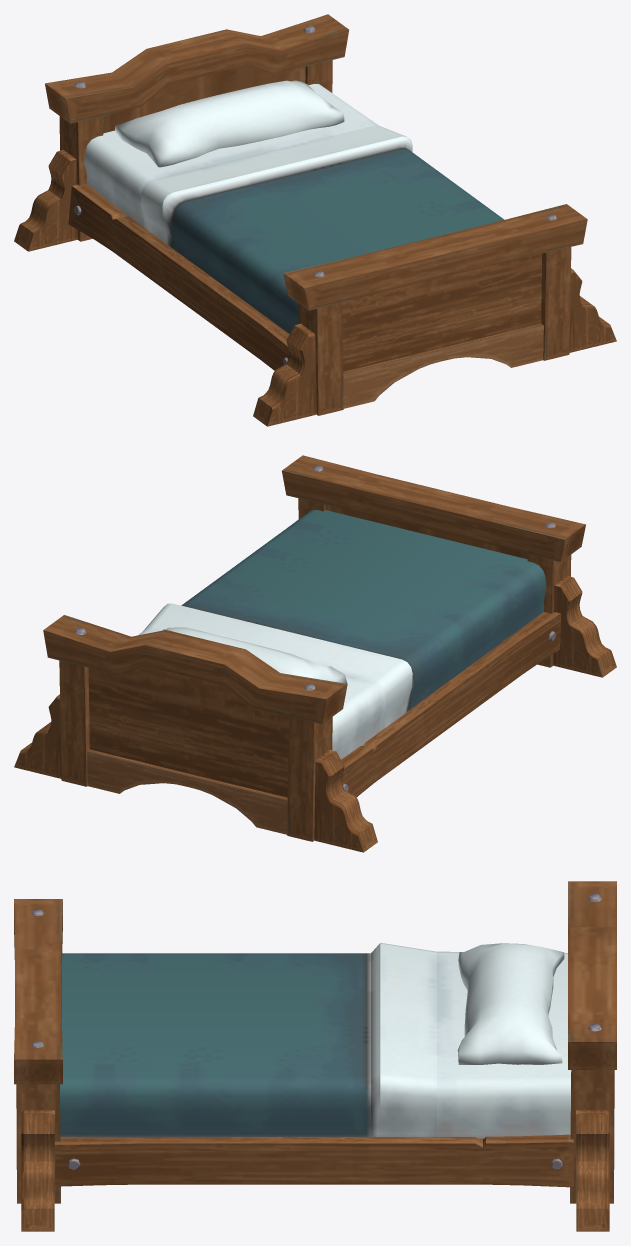
The model's file is Bed_Twin1.glb.
3 renders of one model, top to bottom at view 1: azimuth 30°, elevation 25°; view 2: azimuth 150°, elevation 25°; view 3: azimuth 270°, elevation 25°, orthographic. The views are drawn at different scales.
Visible parts, largest first — view 1: Bed_Twin1; view 2: Bed_Twin1; view 3: Bed_Twin1.
Boxes of the visible parts, x1,y1,x2,y2 form: Bed_Twin1: (14, 14, 616, 426); Bed_Twin1: (14, 455, 616, 852); Bed_Twin1: (14, 881, 616, 1231).
Bounding box in the file's own units: 1.88 × 0.805 × 2.41.
Materials: 3 (3 with a texture image).
